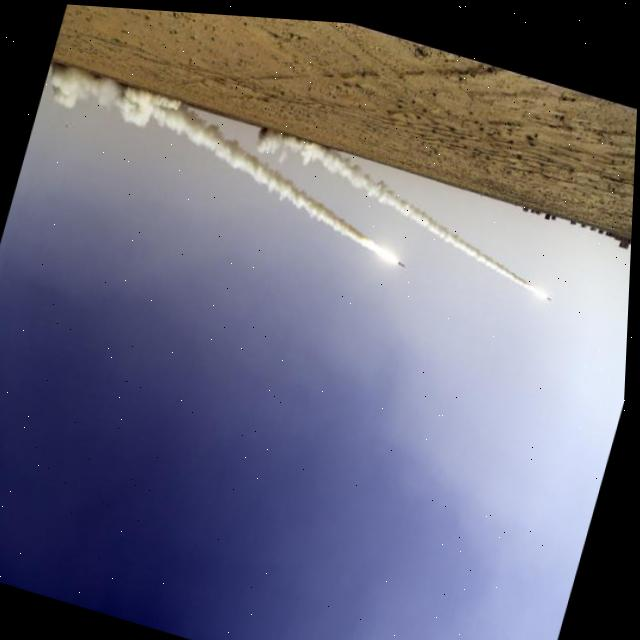missile: (395, 254, 408, 263), (547, 288, 554, 294)
